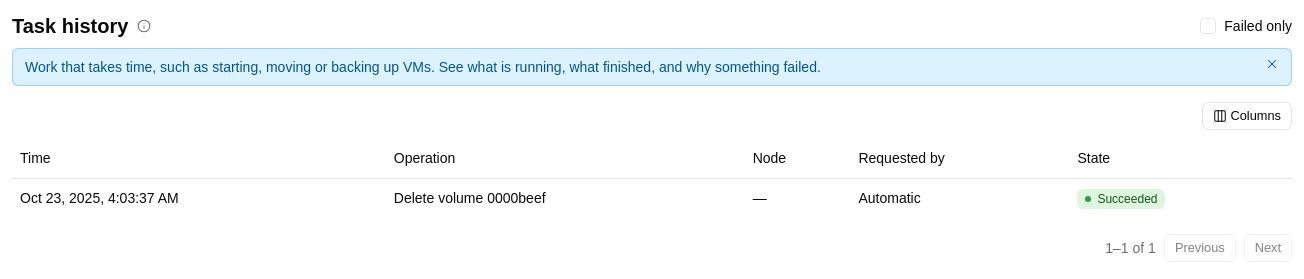
Scenario: names deleted targets by the end of their id and says when no task failed
Expected: the link "Delete volume 0000beef" is shown, [394,190,546,206]
Click the checkbox named "Failed only": point(1208, 26) [1200,18,1216,34]
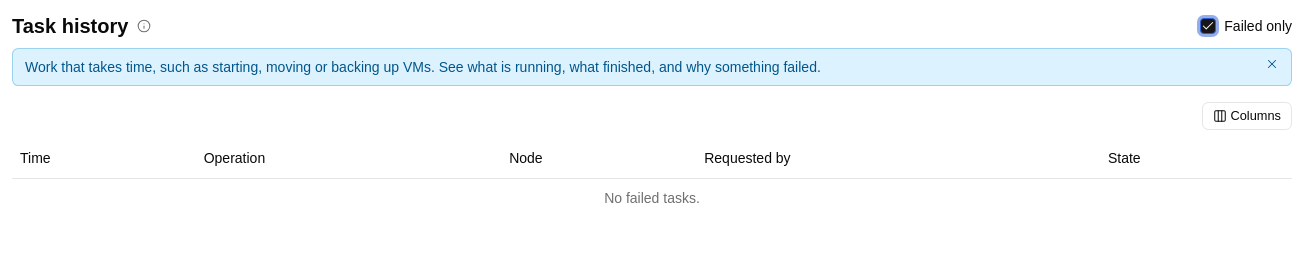
Expected: the text "No failed tasks." is shown, [12,178,1292,218]
